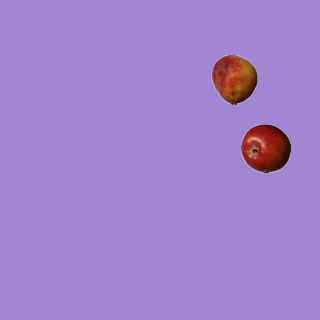Apple Braeburn: (240, 123, 290, 173)
Peach: (209, 54, 259, 104)
